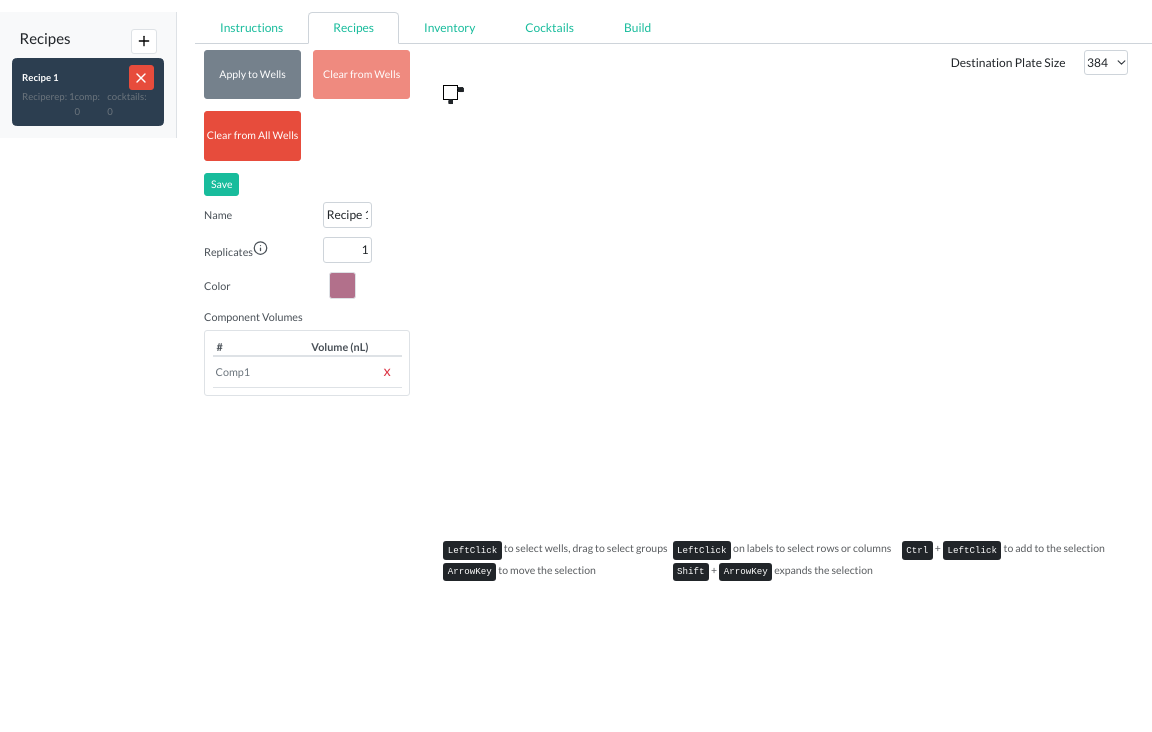
Test: CocktailBuilder designer smoke test › the substitution generator is present and gated
Click the tab "Cocktails": [550, 28] box [500,12,599,44]
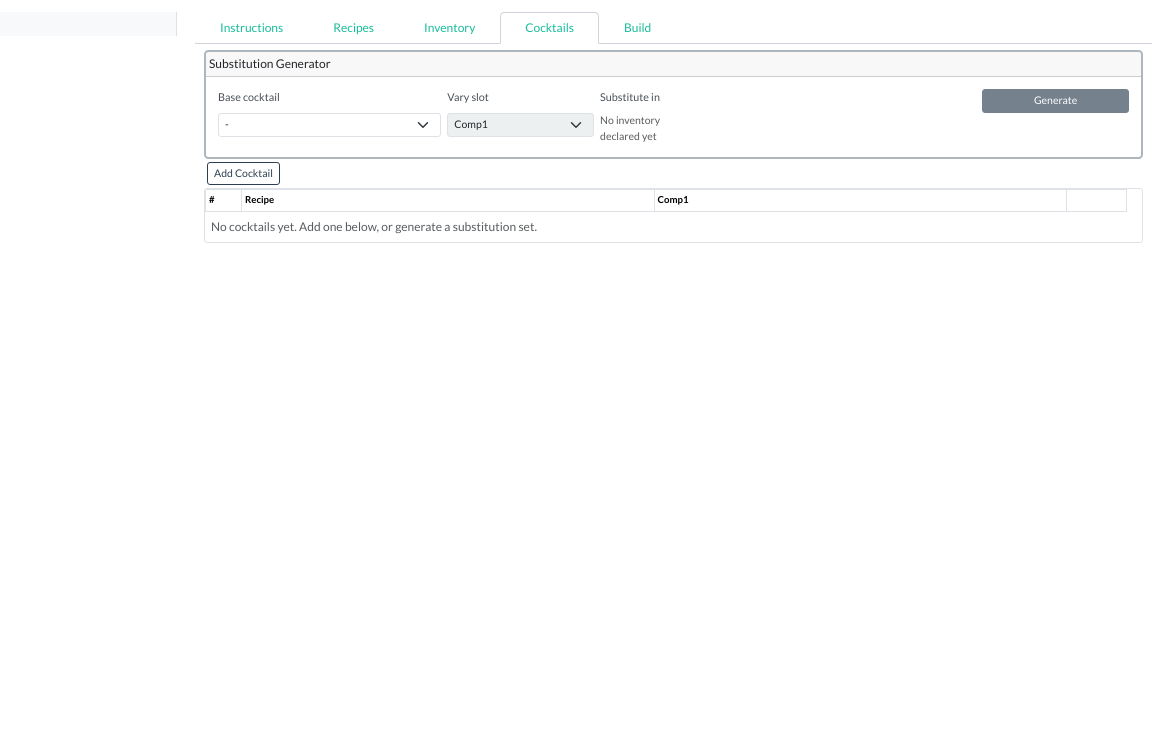
Now the text "Substitution Generator" is shown, box [206,52,1141,77]
Now the button "Generate" is disabled
Hover over the element showing "Generate": [1056, 101] box [982,89,1129,113]
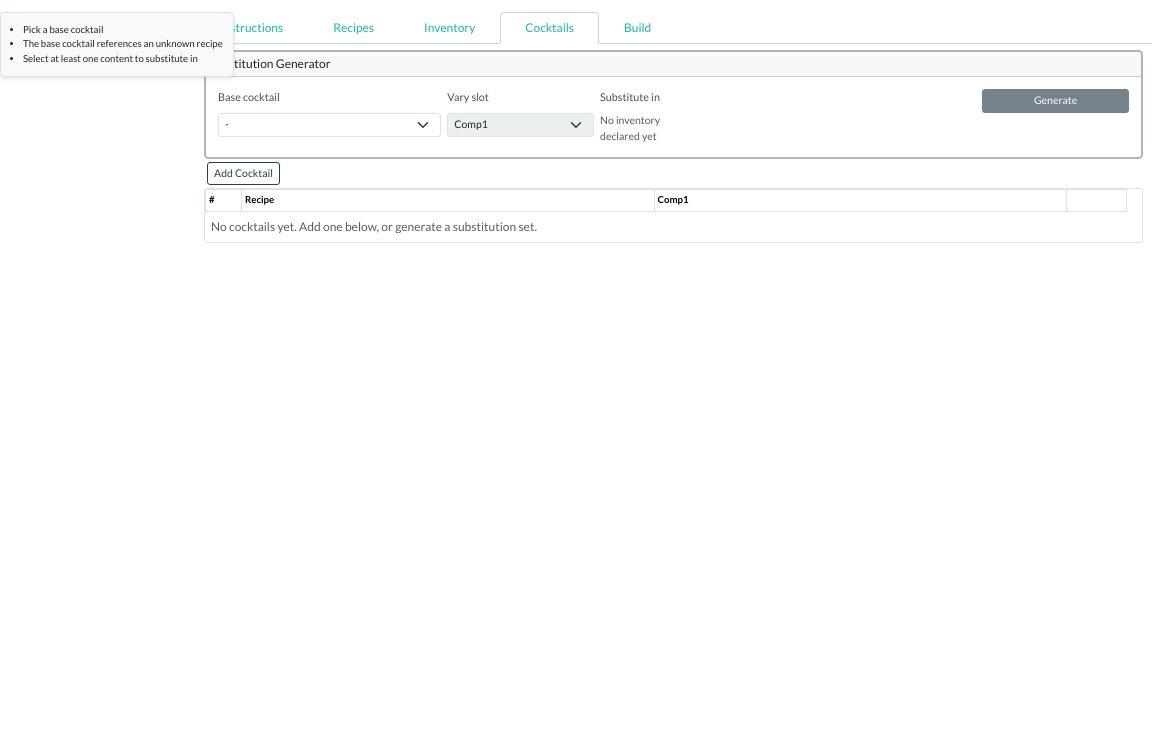
Now the list item "Pick a base cocktail" is shown, box [23,24,103,35]
